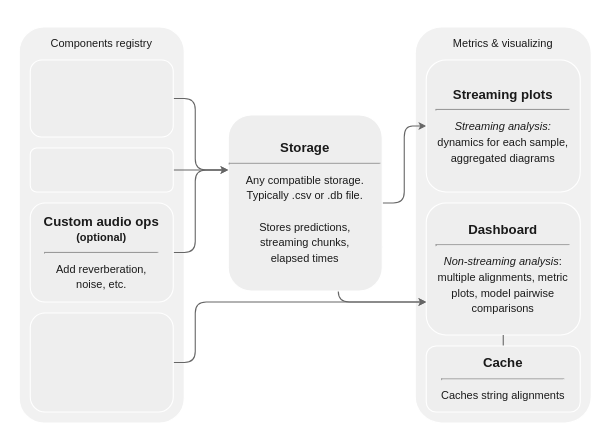
Some shapes in this 611 by 442 pixel diagram are drawn without their labels. The box of each missing label's shape, as (x1, y1, x2, y2) in pixels:
Custom text ops (optional) Text tokenization and normalization: (29, 312, 173, 412)
Datasets: (29, 147, 173, 192)
Pipelines - Non-streaming - Streaming: (29, 59, 173, 137)
